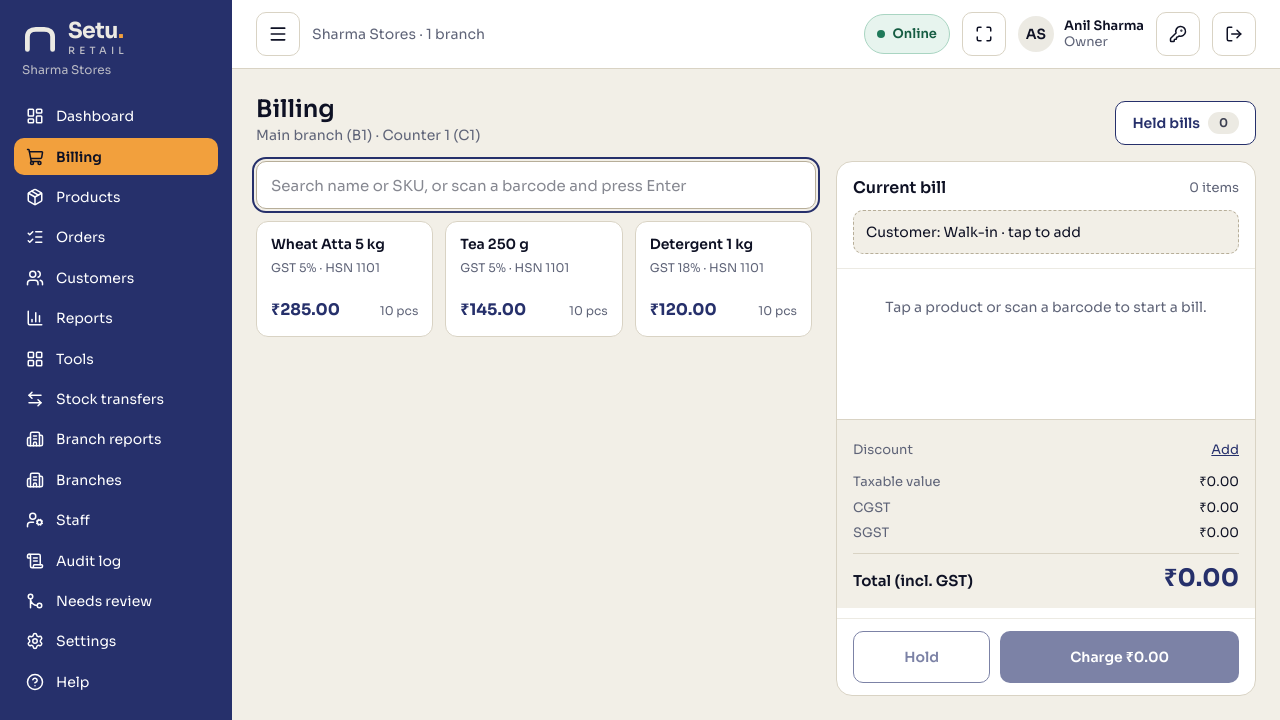
Test: report tools › billing prints with the branch's receipt design; the cashier can switch
Later steps or results of the test are not shown.
Click the button "Tea 250 g GST 5% · HSN 1101 ₹145.00 10 pcs".
click(534, 279)  # box [445,221,623,337]
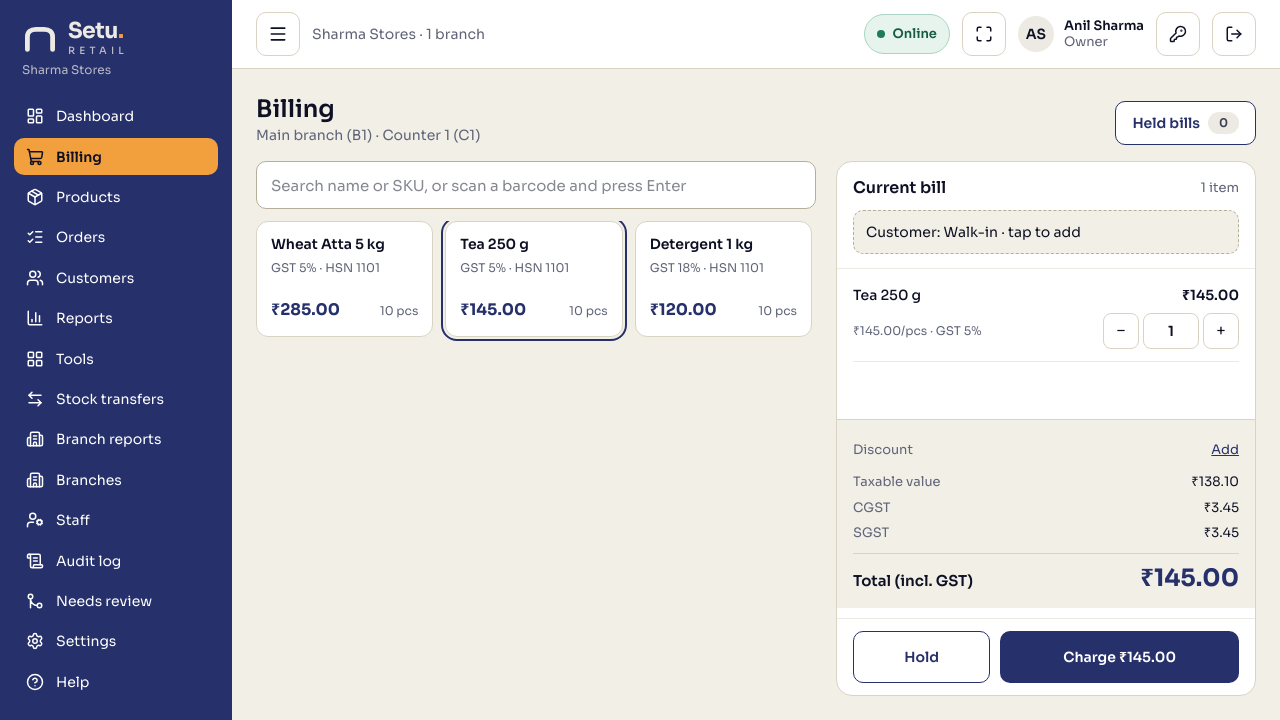
Click the button "Charge ₹145.00".
click(1120, 657)  # box [1000,631,1239,683]
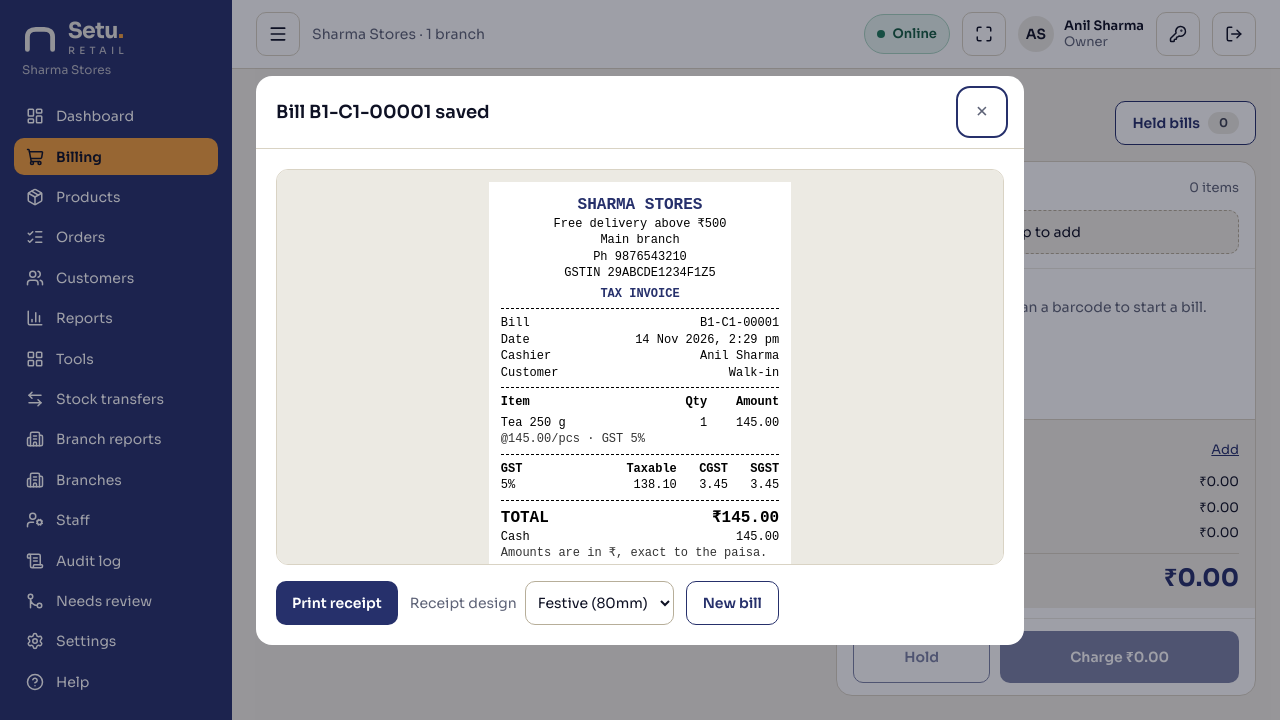
Expected: the element named "TAX INVOICE" does not show "Rupees", [489,182,791,564]
Expected: the element named "TAX INVOICE" shows "Free delivery above ₹500", [554,216,726,230]
